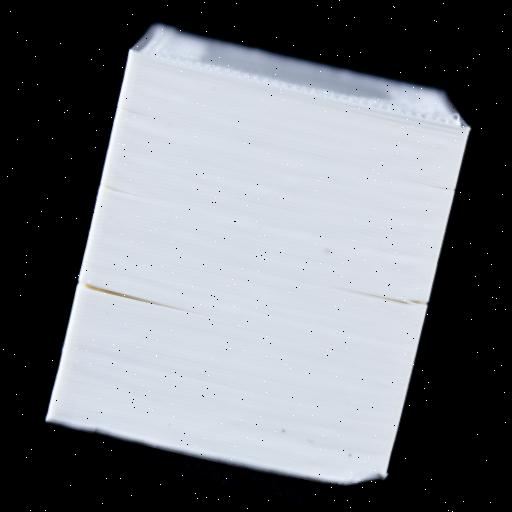cracks: (44, 236, 210, 340), (316, 248, 456, 334)
